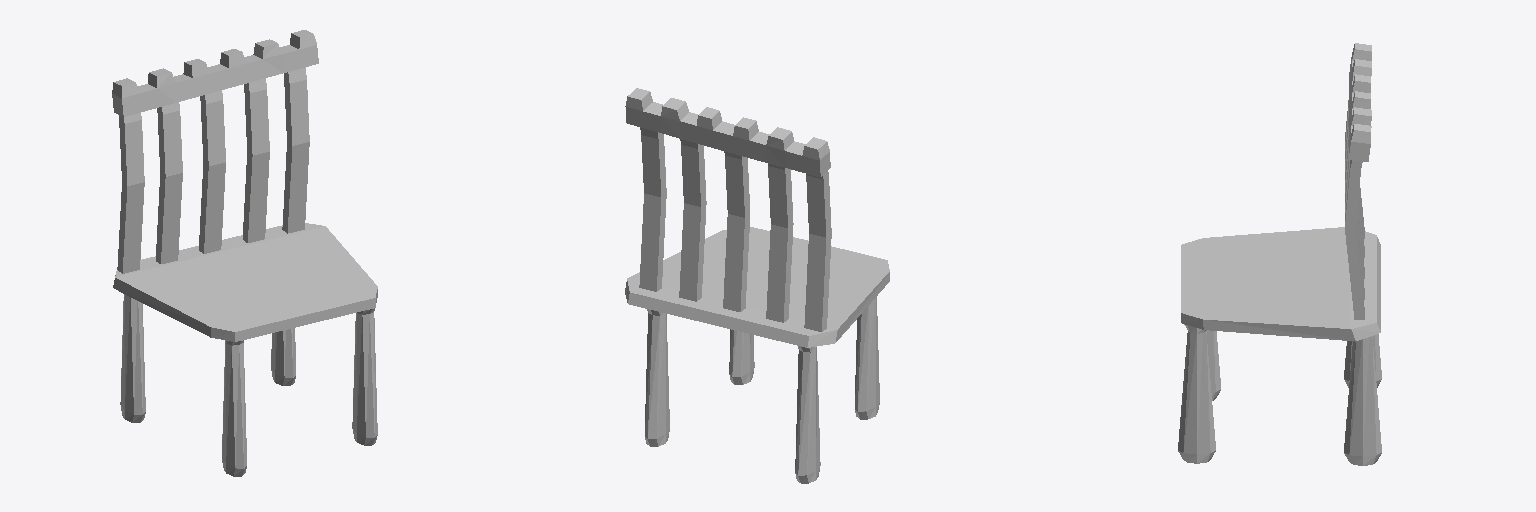
The model's file is chair_4substance.obj.
3 renders of one model, left to right at view 1: azimuth 30°, elevation 25°; view 2: azimuth 150°, elevation 25°; view 3: azimuth 270°, elevation 25°, orthographic.
Parts seen in each view (by area): view 1: CHAIR_REMODEL:pCube3 CHAIR_REMODEL:pCube1, CHAIR_REMODEL:pCube3 CHAIR_REMODEL:pCylinder2 CHAIR_REMODEL:pCyl, CHAIR_REMODEL:pCube3 CHAIR_REMODEL:pCube7, CHAIR_REMODEL:pCube3 CHAIR_REMODEL:pCube6, CHAIR_REMODEL:pCube3 CHAIR_REMODEL:pCube5, CHAIR_REMODEL:pCube3 CHAIR_REMODEL:pCube4, CHAIR_REMODEL:pCube3, CHAIR_REMODEL:pCube3 CHAIR_REMODEL:pCube2; view 2: CHAIR_REMODEL:pCube3 CHAIR_REMODEL:pCube1, CHAIR_REMODEL:pCube3 CHAIR_REMODEL:pCylinder2 CHAIR_REMODEL:pCyl, CHAIR_REMODEL:pCube3 CHAIR_REMODEL:pCube7, CHAIR_REMODEL:pCube3 CHAIR_REMODEL:pCube6, CHAIR_REMODEL:pCube3 CHAIR_REMODEL:pCube5, CHAIR_REMODEL:pCube3 CHAIR_REMODEL:pCube4, CHAIR_REMODEL:pCube3 CHAIR_REMODEL:pCube2, CHAIR_REMODEL:pCube3; view 3: CHAIR_REMODEL:pCube3 CHAIR_REMODEL:pCube1, CHAIR_REMODEL:pCube3 CHAIR_REMODEL:pCylinder2 CHAIR_REMODEL:pCyl, CHAIR_REMODEL:pCube3 CHAIR_REMODEL:pCube7, CHAIR_REMODEL:pCube3 CHAIR_REMODEL:pCube6.
Part boxes in pixels (x1,y1,x2,y2): CHAIR_REMODEL:pCube3 CHAIR_REMODEL:pCube1: (113, 223, 377, 341); CHAIR_REMODEL:pCube3 CHAIR_REMODEL:pCylinder2 CHAIR_REMODEL:pCyl: (120, 294, 377, 476); CHAIR_REMODEL:pCube3 CHAIR_REMODEL:pCube7: (112, 30, 318, 116); CHAIR_REMODEL:pCube3 CHAIR_REMODEL:pCube6: (282, 67, 309, 233); CHAIR_REMODEL:pCube3 CHAIR_REMODEL:pCube5: (243, 78, 269, 242); CHAIR_REMODEL:pCube3 CHAIR_REMODEL:pCube4: (199, 90, 225, 253); CHAIR_REMODEL:pCube3: (156, 102, 182, 263); CHAIR_REMODEL:pCube3 CHAIR_REMODEL:pCube2: (117, 113, 144, 273); CHAIR_REMODEL:pCube3 CHAIR_REMODEL:pCube1: (625, 227, 889, 347); CHAIR_REMODEL:pCube3 CHAIR_REMODEL:pCylinder2 CHAIR_REMODEL:pCyl: (645, 297, 879, 483); CHAIR_REMODEL:pCube3 CHAIR_REMODEL:pCube7: (625, 88, 830, 177); CHAIR_REMODEL:pCube3 CHAIR_REMODEL:pCube6: (639, 127, 666, 291); CHAIR_REMODEL:pCube3 CHAIR_REMODEL:pCube5: (679, 139, 706, 301); CHAIR_REMODEL:pCube3 CHAIR_REMODEL:pCube4: (723, 151, 749, 311); CHAIR_REMODEL:pCube3 CHAIR_REMODEL:pCube2: (804, 171, 831, 331); CHAIR_REMODEL:pCube3: (766, 164, 793, 322); CHAIR_REMODEL:pCube3 CHAIR_REMODEL:pCube1: (1181, 227, 1380, 341); CHAIR_REMODEL:pCube3 CHAIR_REMODEL:pCylinder2 CHAIR_REMODEL:pCyl: (1178, 324, 1381, 465); CHAIR_REMODEL:pCube3 CHAIR_REMODEL:pCube7: (1349, 43, 1371, 161); CHAIR_REMODEL:pCube3 CHAIR_REMODEL:pCube6: (1345, 160, 1364, 319).
Bounding box in the file's own units: 11.58 × 18.1 × 9.73.